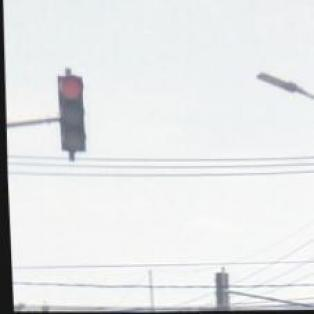Semoforo Rojo: (54, 74, 87, 153)
